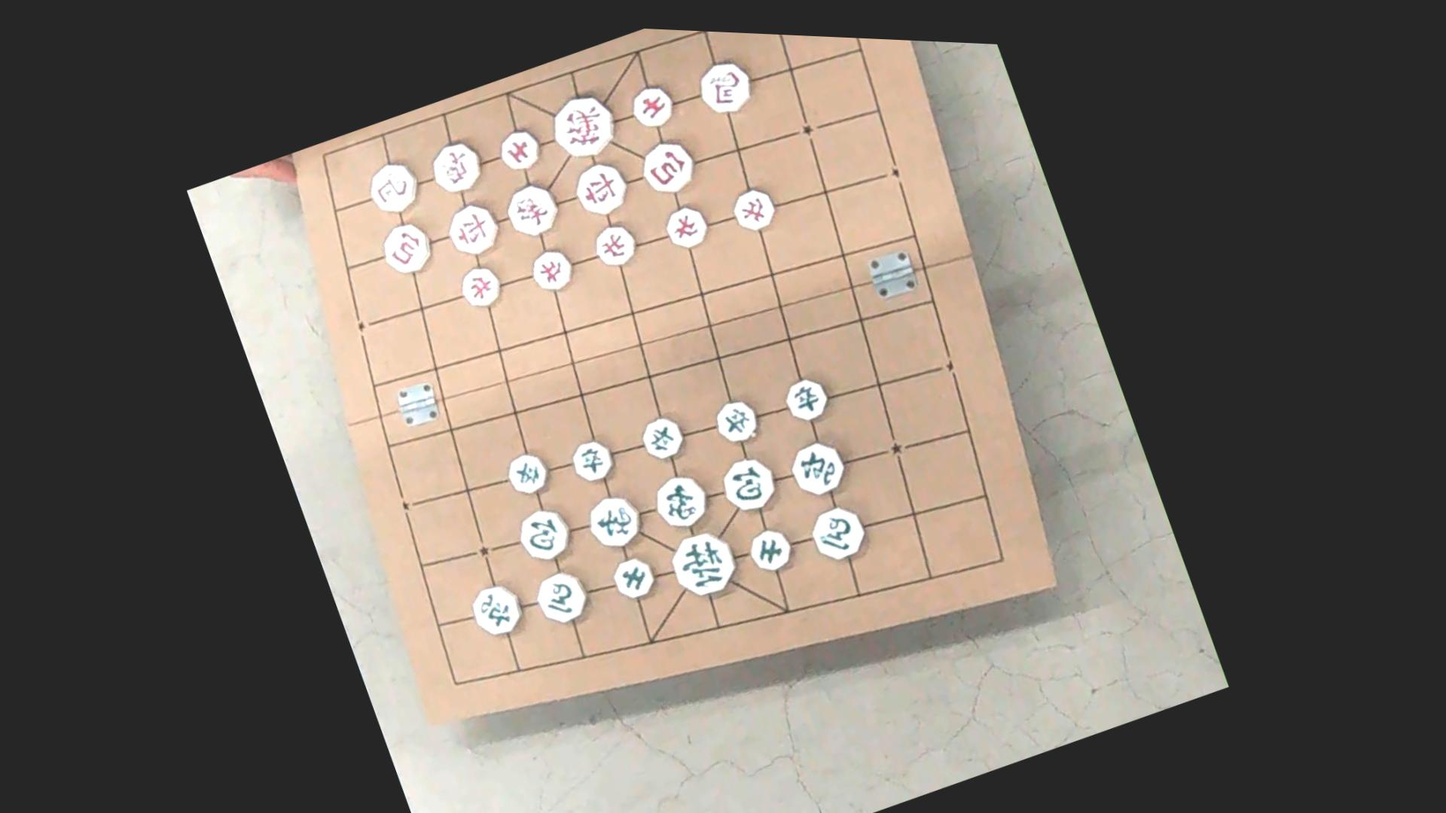cha_green: (786, 434, 851, 501), (465, 577, 529, 642)
cha_red: (569, 155, 634, 221), (442, 198, 505, 260)
jol_green: (710, 394, 763, 447), (780, 372, 833, 425), (636, 412, 688, 463), (567, 434, 618, 485), (502, 448, 554, 498)
jol_red: (728, 182, 780, 236), (660, 201, 713, 252), (590, 219, 641, 271), (526, 245, 578, 295), (456, 260, 505, 312)
ma_green: (806, 501, 872, 566), (530, 565, 593, 629)
ma_red: (693, 55, 759, 120), (363, 156, 425, 218)
po_green: (716, 451, 782, 517), (513, 502, 577, 566)
po_red: (635, 132, 701, 199), (377, 216, 438, 279)
sa_green: (745, 524, 796, 575), (609, 552, 659, 603)
sa_red: (494, 123, 546, 175), (627, 81, 679, 132)
sang_green: (649, 469, 715, 534), (582, 489, 647, 553)
sang_red: (501, 178, 564, 241), (426, 136, 488, 198)
wang_green: (664, 523, 743, 604)
wang_red: (543, 87, 622, 165)
